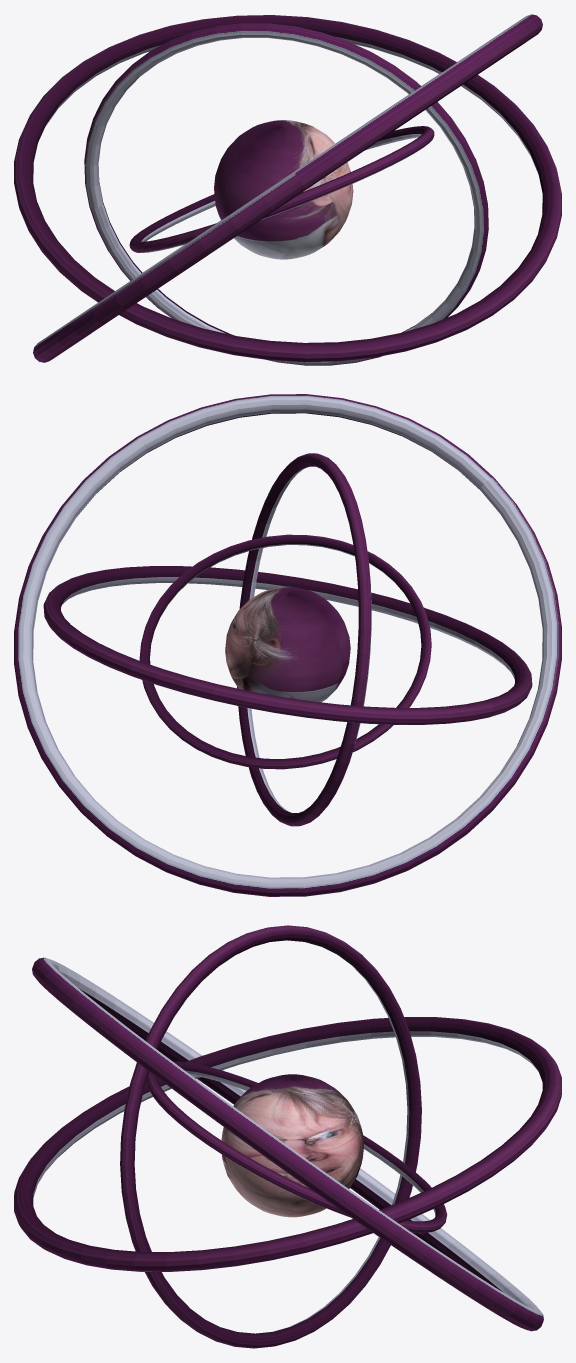
Rendered from Karl.fbx.
3 views of the same model, one above another, from view 1: azimuth 30°, elevation 25°; view 2: azimuth 150°, elevation 25°; view 3: azimuth 270°, elevation 25° (orthographic). The views are drawn at different scales.
Visible parts, largest first — view 1: Torus.002, Torus.003, Torus.001, Sphere, Torus; view 2: Torus.003, Torus.002, Sphere, Torus.001, Torus; view 3: Torus.002, Torus.003, Torus.001, Sphere, Torus.
Boxes of the visible parts, x1,y1,x2,y2 form: Torus.002: (14,15,561,362); Torus.003: (33,14,542,362); Torus.001: (84,23,488,365); Sphere: (214,120,353,259); Torus: (129,126,434,252); Torus.003: (14,394,561,896); Torus.002: (43,566,532,724); Sphere: (225,586,350,702); Torus.001: (237,453,371,826); Torus: (139,534,431,769); Torus.002: (14,1017,561,1271); Torus.003: (32,957,543,1331); Torus.001: (120,925,421,1348); Sphere: (221,1074,363,1217); Torus: (146,1061,447,1233).
Bounding box in the file's own units: 831 × 588 × 765.
